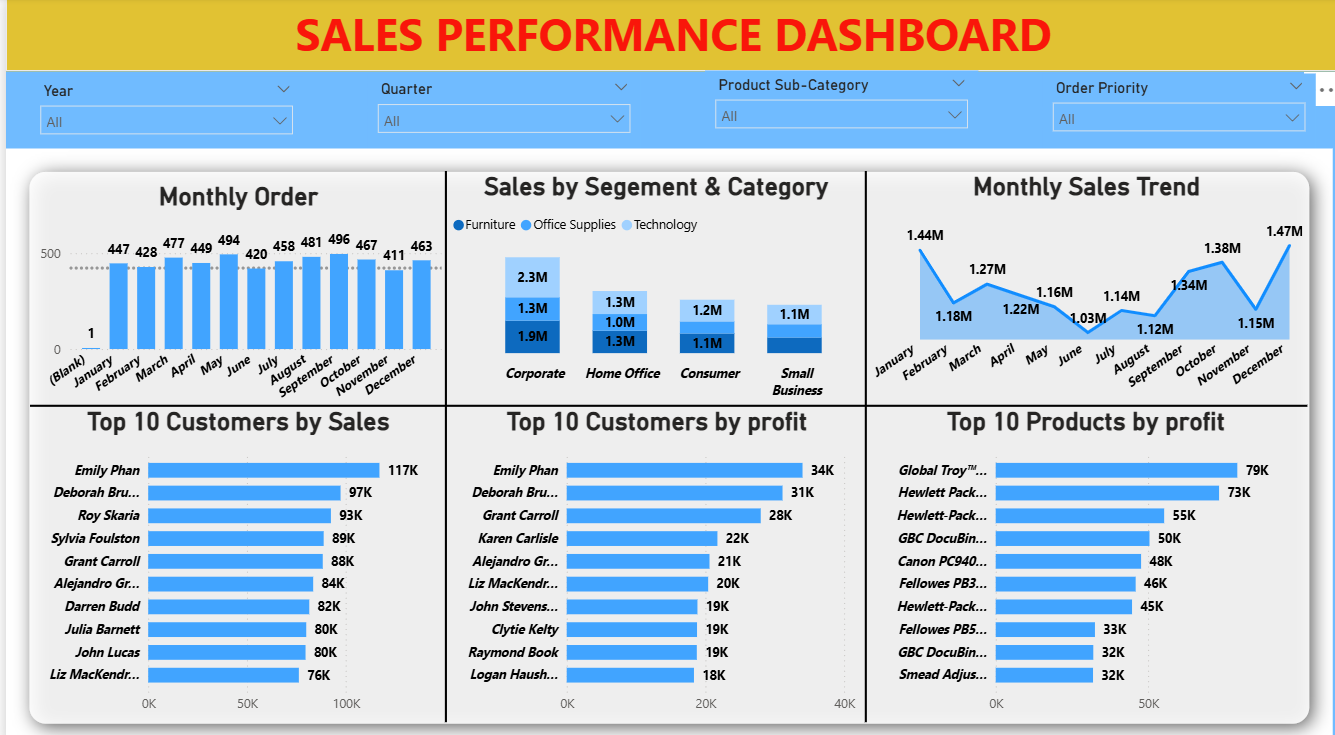

The dashboard page shown, as its layout file describes it:
{"tool":"powerbi","page":{"name":"Page 1","canvas":[1280,720],"ordinal":0},"visuals":[{"type":"textbox","box":[0,0,1279.5,71.2],"z":0},{"type":"slicer","fields":{"Values":["Orders.Order Date.Variation.Date Hierarchy.Year"]},"box":[22.7,75.7,262,69.7],"z":1000},{"type":"slicer","fields":{"Values":["Orders.Order Date.Variation.Date Hierarchy.Quarter"]},"box":[346.2,74.2,262,74.2],"z":2000},{"type":"slicer","fields":{"Values":["Orders.Product Sub-Category"]},"box":[669.8,71.2,262,74.2],"z":3000},{"type":"slicer","fields":{"Values":["Orders.Order Priority"]},"box":[993.3,72.7,262,74.2],"z":4000},{"type":"shape","box":[0,145.4,1271.9,573.9],"z":5000},{"type":"clusteredColumnChart","title":"Monthly Order","fields":{"Category":["Orders.Order Date.Variation.Date Hierarchy.Month"],"Y":["Orders.Order ID"]},"box":[22.7,177.2,399.8,225.6],"z":6000},{"type":"shape","box":[22.7,377,1225,30.3],"z":7000},{"type":"shape","box":[371,166.6,101.5,528.5],"z":8000},{"type":"columnChart","title":"Sales by Segement & Category","fields":{"Category":["Orders.Customer Segment"],"Y":["Orders.Sales"],"Series":["Orders.Product Category"]},"box":[422.5,166.6,401.3,225.6],"z":8001},{"type":"shape","box":[788.9,166.6,69.7,528.5],"z":8002},{"type":"areaChart","title":"Monthly Sales Trend","fields":{"Category":["Orders.Order Date.Variation.Date Hierarchy.Month"],"Y":["Orders.Sales"]},"box":[823.7,166.6,424,225.6],"z":8003},{"type":"clusteredBarChart","title":"Top 10 Customers by Sales","fields":{"Category":["Orders.Customer Name"],"Y":["Orders.Sales"]},"box":[22.7,392.2,399.8,302.8],"z":8004},{"type":"clusteredBarChart","title":"Top 10 Customers by profit","fields":{"Category":["Orders.Customer Name"],"Y":["Orders.Profit"]},"box":[424,392.2,399.8,302.8],"z":8005},{"type":"clusteredBarChart","title":"Top 10 Products  by profit","fields":{"Category":["Orders.Product Name"],"Y":["Orders.Profit"]},"box":[835.8,392.2,399.8,302.8],"z":8006}]}

Visuals, with their boxes in screenshot pixels (x1, y1, x2, y2), scaled from the page's 1280x720 canvas onto the 1335x735 screenshot:
textbox: [0,0,1334,73]
slicer - Orders.Order Date.Variation.Date Hierarchy.Year: [24,77,297,148]
slicer - Orders.Order Date.Variation.Date Hierarchy.Quarter: [361,76,634,151]
slicer - Orders.Product Sub-Category: [699,73,972,148]
slicer - Orders.Order Priority: [1036,74,1309,150]
shape: [0,148,1327,734]
"Monthly Order" clusteredColumnChart: [24,181,441,411]
shape: [24,385,1301,416]
shape: [387,170,493,710]
"Sales by Segement & Category" columnChart: [441,170,859,400]
shape: [823,170,895,710]
"Monthly Sales Trend" areaChart: [859,170,1301,400]
"Top 10 Customers by Sales" clusteredBarChart: [24,400,441,709]
"Top 10 Customers by profit" clusteredBarChart: [442,400,859,709]
"Top 10 Products  by profit" clusteredBarChart: [872,400,1289,709]
